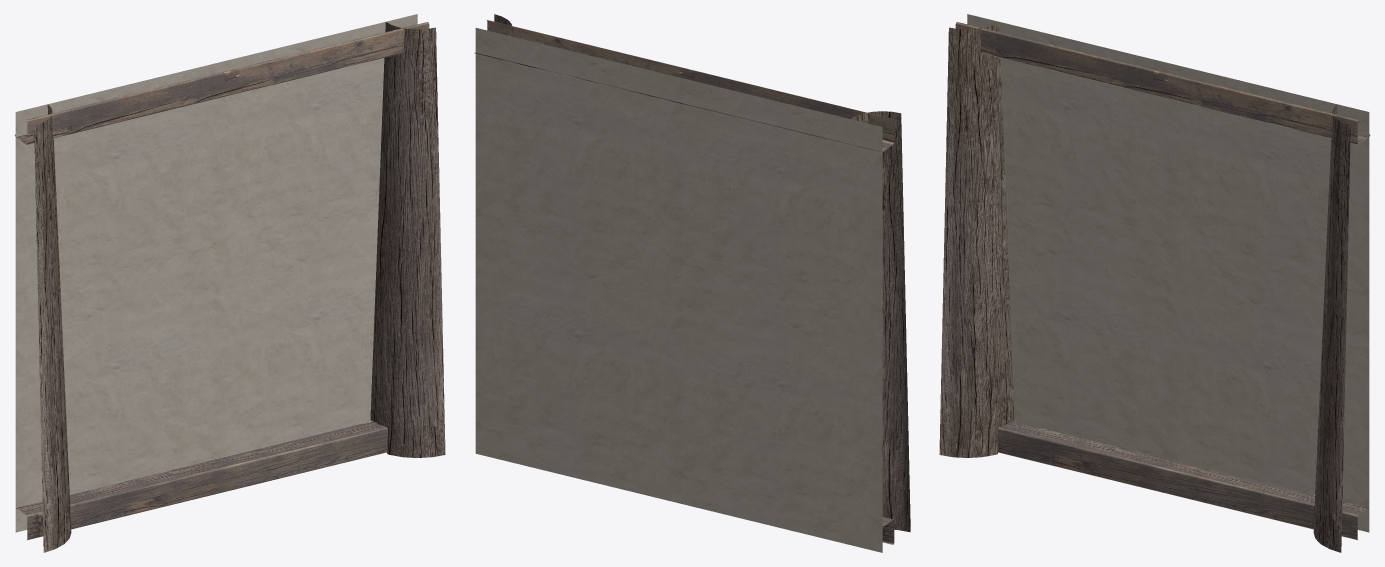
The model's file is IntWall01a.FBX.
3 views of the same model, side by side, from view 1: azimuth 30°, elevation 25°; view 2: azimuth 150°, elevation 25°; view 3: azimuth 330°, elevation 25° (orthographic).
Parts seen in each view (by area): view 1: IntWall01a; view 2: IntWall01a; view 3: IntWall01a.
Part boxes in pixels (bbox=[...]): IntWall01a: bbox=[14, 14, 445, 552]; IntWall01a: bbox=[475, 14, 910, 552]; IntWall01a: bbox=[939, 14, 1370, 552].
Size of the model in its own units: 98.43 by 12.37 by 98.43.
